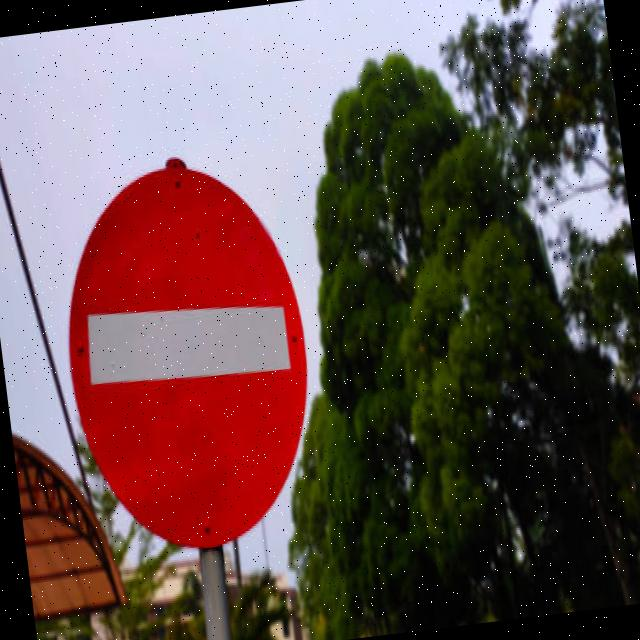do_not_enter: (36, 137, 328, 566)
